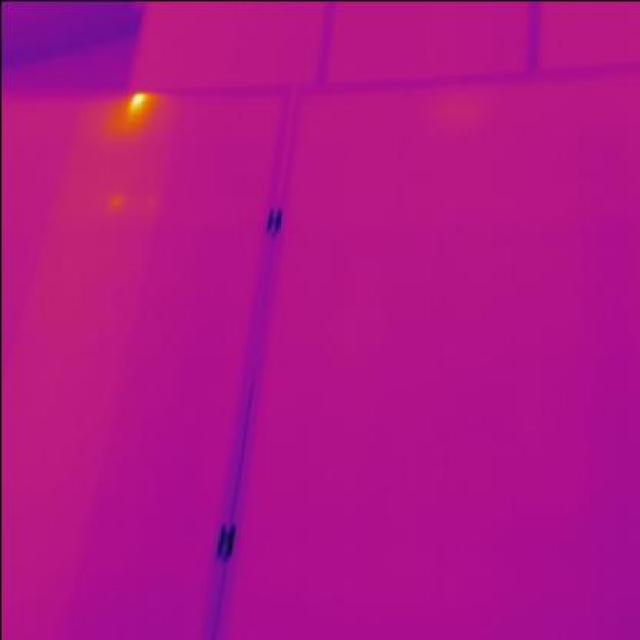hotspot: (107, 88, 168, 128)
